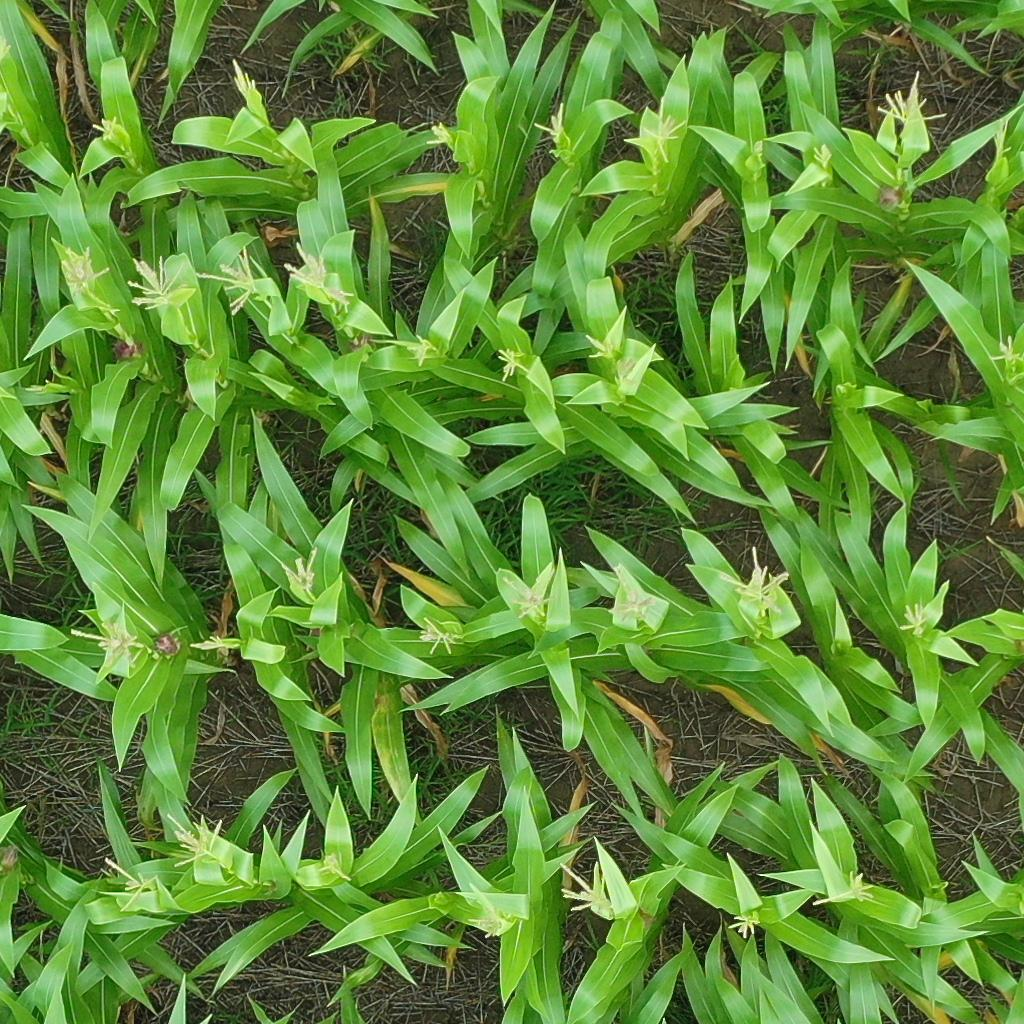Tassel: (67, 603, 146, 679), (713, 543, 793, 616), (279, 241, 354, 317), (194, 238, 264, 318), (875, 66, 946, 139), (163, 806, 225, 871), (99, 854, 161, 918), (129, 255, 184, 318), (497, 570, 557, 627), (807, 868, 881, 913), (641, 94, 685, 164), (558, 863, 615, 915), (464, 881, 511, 940), (603, 567, 651, 624), (56, 246, 110, 295), (420, 613, 462, 663), (278, 546, 321, 590), (534, 101, 571, 150), (316, 848, 352, 889), (894, 602, 930, 641), (228, 56, 261, 98), (992, 331, 1023, 372), (402, 331, 437, 367), (582, 330, 614, 363), (427, 118, 454, 156), (990, 116, 1010, 167), (728, 915, 762, 943), (187, 633, 228, 654), (92, 115, 121, 143), (498, 349, 523, 379), (810, 141, 834, 169), (1, 32, 13, 66)
